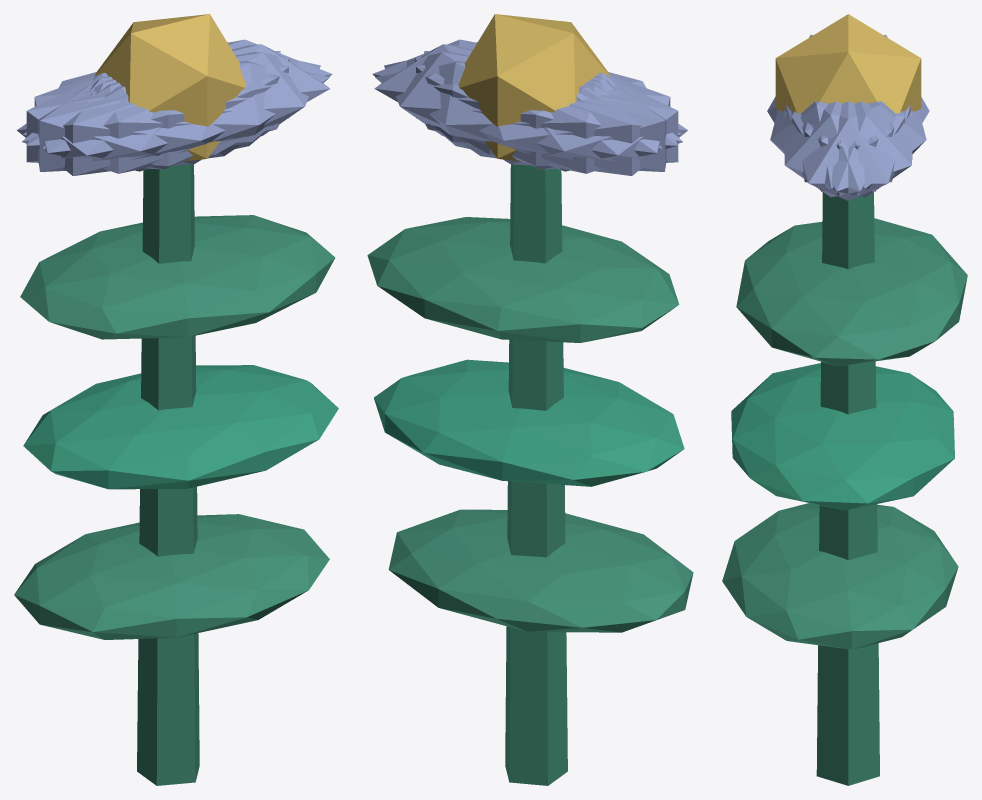
Rendered from ruellia-nudiflora.glb.
3 renders of one model, left to right at view 1: azimuth 30°, elevation 25°; view 2: azimuth 150°, elevation 25°; view 3: azimuth 270°, elevation 25°, orthographic.
Visible parts, largest first — view 1: leaf0, leaf2, leaf1, stem, center, petal1, petal6, petal2, petal5, petal7, petal0, petal4 (+2 smaller); view 2: leaf2, leaf1, leaf0, stem, center, petal8, petal3, petal7, petal4, petal2, petal0, petal5 (+2 smaller); view 3: leaf2, leaf1, leaf0, stem, center, petal0, petal4, petal5, petal1, petal8.
Boxes of the visible parts, box(x1,y1,x2,y2) form: leaf0: box(14, 514, 329, 639); leaf2: box(20, 215, 335, 339); leaf1: box(23, 365, 338, 489); stem: box(137, 164, 199, 785); center: box(94, 14, 246, 161); petal1: box(22, 61, 329, 173); petal6: box(16, 74, 239, 175); petal2: box(38, 51, 280, 171); petal5: box(42, 52, 320, 165); petal7: box(26, 57, 289, 169); petal0: box(94, 44, 330, 155); petal4: box(23, 39, 332, 145); leaf2: box(367, 217, 679, 342); leaf1: box(374, 359, 684, 486); leaf0: box(388, 509, 693, 632); stem: box(505, 164, 567, 785); center: box(458, 14, 610, 161); petal8: box(375, 61, 682, 173); petal3: box(465, 74, 687, 175); petal7: box(424, 51, 666, 171); petal4: box(384, 52, 662, 165); petal2: box(415, 57, 678, 169); petal0: box(374, 44, 610, 155); petal5: box(372, 39, 681, 145); leaf2: box(736, 218, 967, 366); leaf1: box(731, 363, 954, 510); leaf0: box(722, 503, 958, 649); stem: box(816, 192, 879, 785); center: box(775, 14, 921, 113); petal0: box(786, 101, 910, 200); petal4: box(791, 101, 912, 197); petal5: box(784, 101, 905, 197); petal1: box(770, 101, 894, 188); petal8: box(802, 101, 926, 188).
Size of the model in its own units: 0.1452 by 0.343 by 0.1034.
